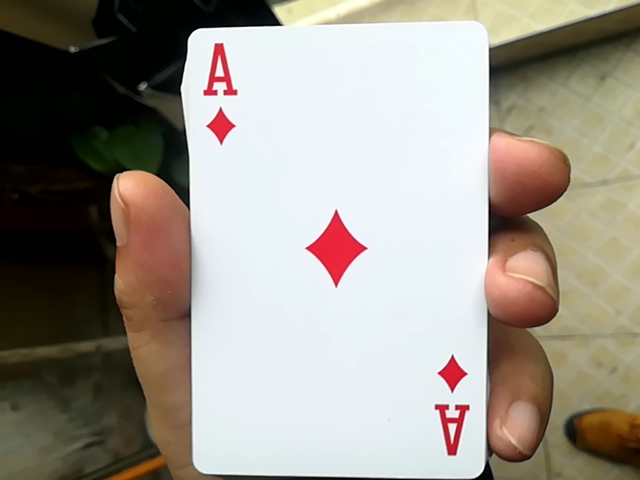fk a: (172, 10, 489, 472)
